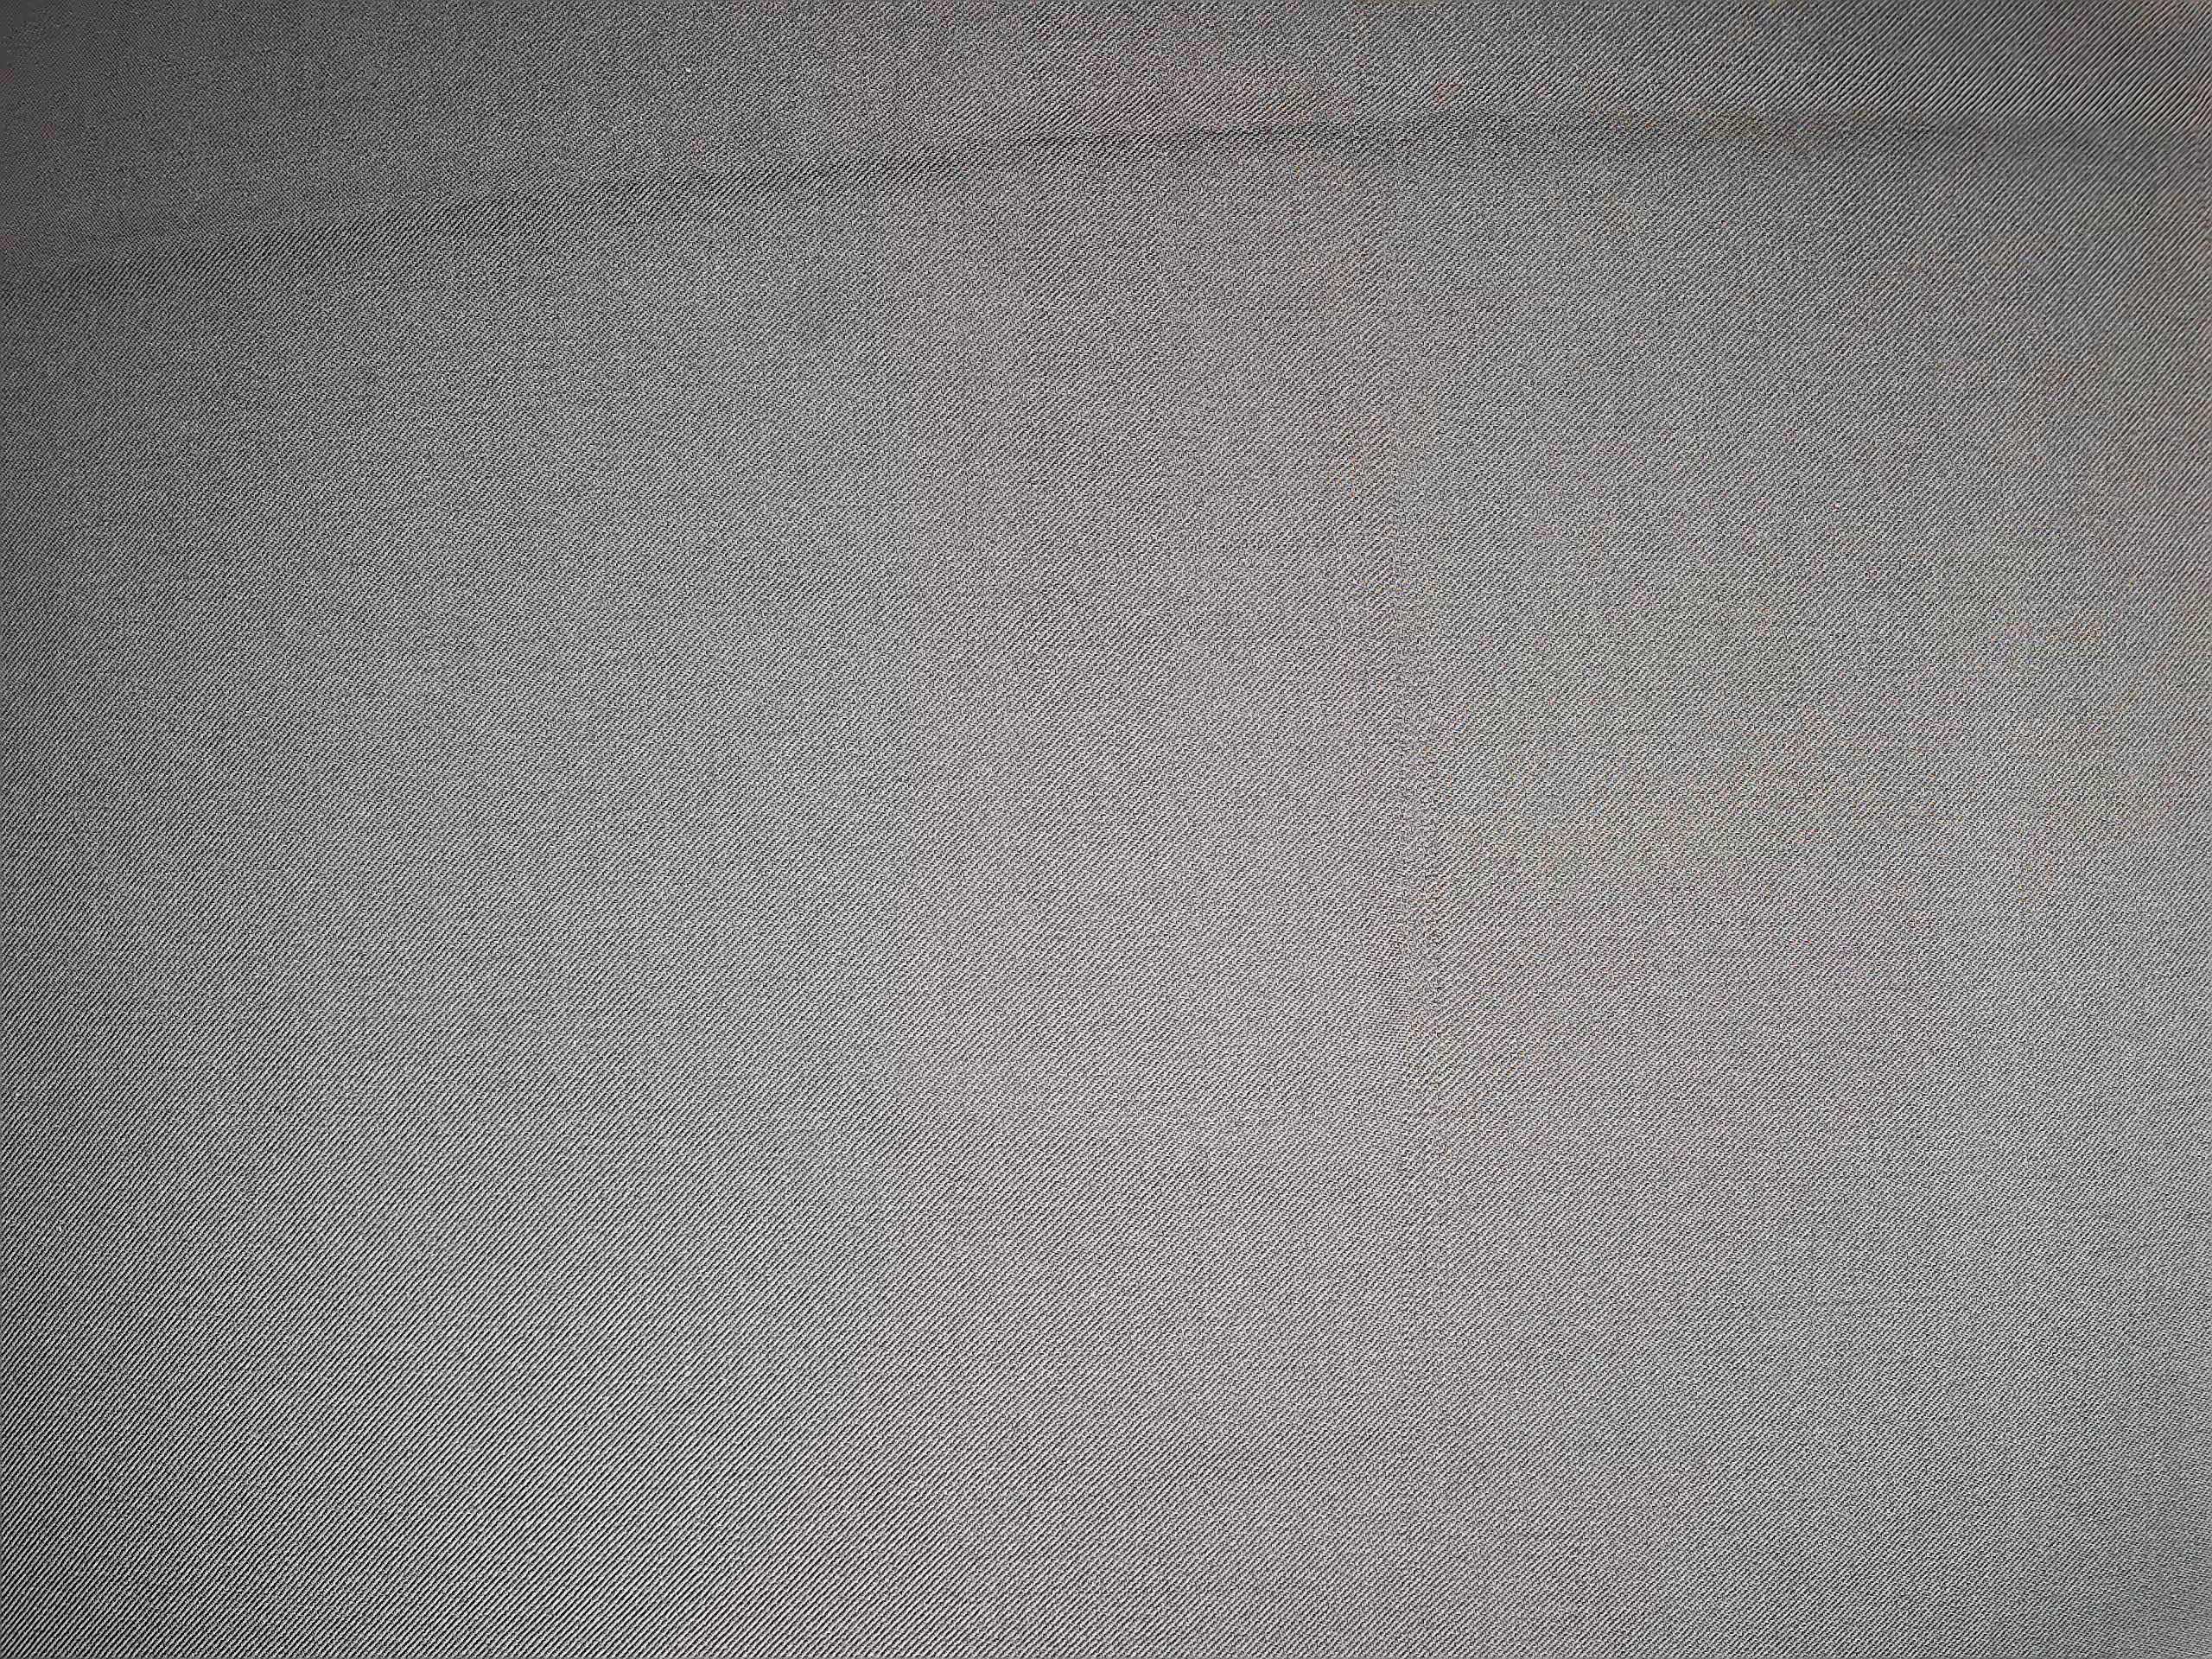others: (1362, 68, 1470, 1478)
